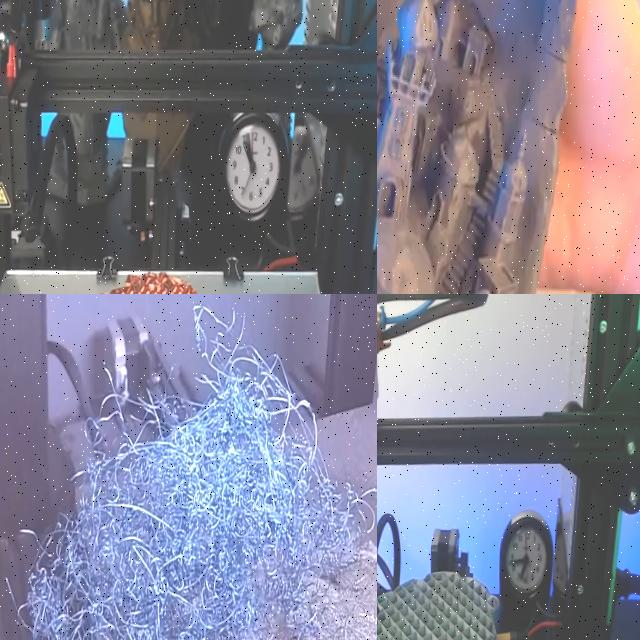spaghetti: (22, 310, 376, 640)
